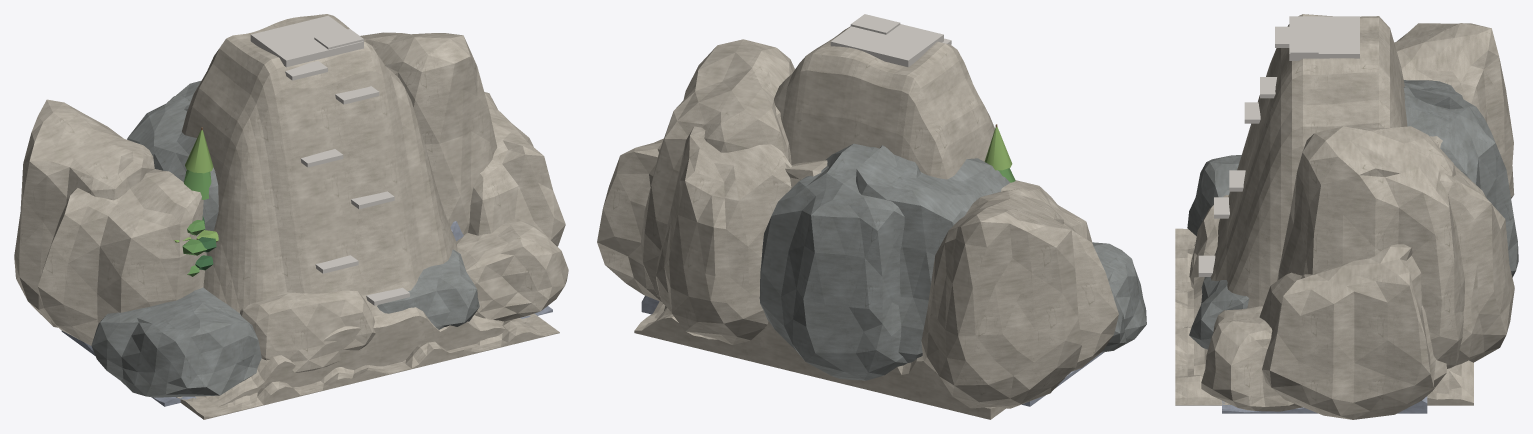
Rendered from VillageEnvironment.glb.
The picture shows the model from 3 angles, left to right: view 1: azimuth 30°, elevation 25°; view 2: azimuth 150°, elevation 25°; view 3: azimuth 270°, elevation 25°; orthographic projection.
Parts seen in each view (by area): view 1: Mountain_GraniteMassif, Mountain_Cliff, Mountain_Peak; view 2: Mountain_GraniteMassif, Mountain_Cliff, Mountain_Peak; view 3: Mountain_GraniteMassif, Mountain_Cliff, Mountain_Peak, Mountain_Ridge_A, Mountain_Ridge_B.
Boxes of the visible parts, <box> form: Mountain_GraniteMassif: <box>14,32,568,397</box>; Mountain_Cliff: <box>174,14,505,407</box>; Mountain_Peak: <box>176,255,559,419</box>; Mountain_GraniteMassif: <box>597,39,1146,408</box>; Mountain_Cliff: <box>774,14,1015,182</box>; Mountain_Peak: <box>634,301,1005,419</box>; Mountain_GraniteMassif: <box>1187,23,1518,419</box>; Mountain_Cliff: <box>1194,14,1407,375</box>; Mountain_Peak: <box>1175,228,1473,405</box>; Mountain_Ridge_A: <box>1222,400,1427,413</box>; Mountain_Ridge_B: <box>1222,396,1427,413</box>.
Size of the model in its own units: 30.49 by 17.16 by 18.39.
Materials: 14 (6 with a texture image).
